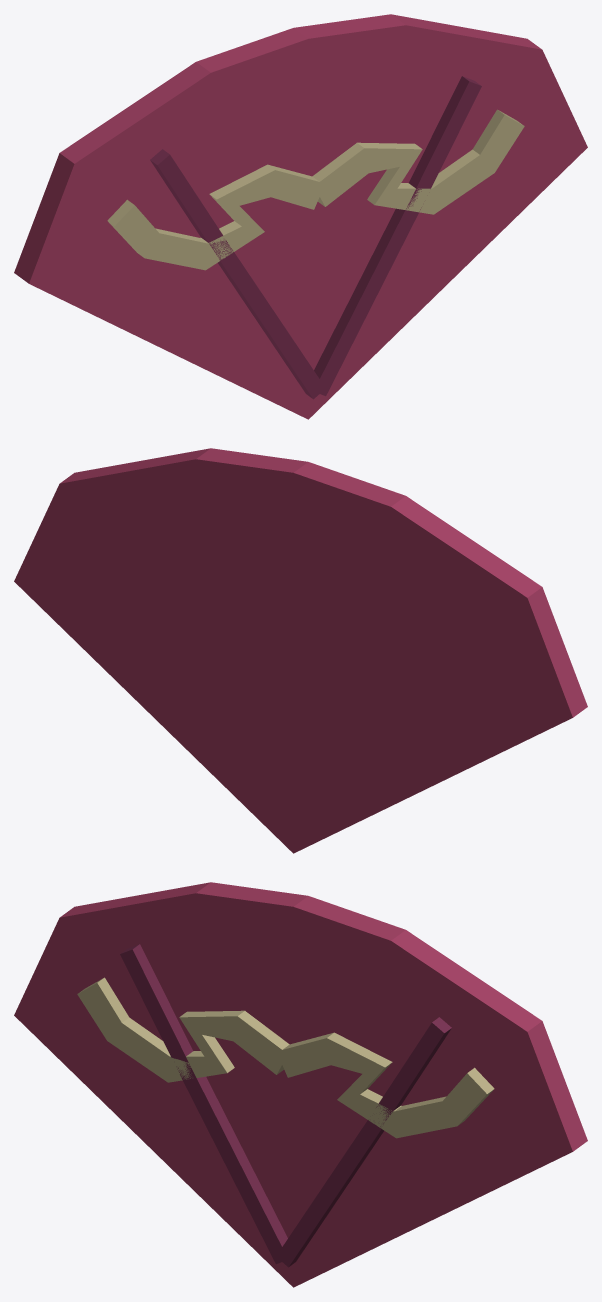
Rendered from cloud_silk_leaf.obj.
The picture shows the model from 3 angles, top to bottom: view 1: azimuth 30°, elevation 25°; view 2: azimuth 150°, elevation 25°; view 3: azimuth 330°, elevation 25°; orthographic projection.
Visible parts, largest first — view 1: cloud_silk, cloud_silk_edge, leaf_cloud_right, leaf_cloud_left, silk_fold_-0.48, silk_fold_0.48, silk_fold_0.48_edge, leaf_cloud_right_edge, leaf_cloud_left_edge, silk_fold_-0.48_edge; view 2: cloud_silk, cloud_silk_edge; view 3: cloud_silk, cloud_silk_edge, leaf_cloud_left, leaf_cloud_right, silk_fold_-0.48, silk_fold_0.48, silk_fold_-0.48_edge, leaf_cloud_left_edge, leaf_cloud_right_edge, silk_fold_0.48_edge.
Boxes of the visible parts, x1,y1,x2,y2 form: cloud_silk: (29,25,587,419); cloud_silk_edge: (14,14,541,283); leaf_cloud_right: (314,115,524,214); leaf_cloud_left: (115,170,320,270); silk_fold_-0.48: (157,155,325,399); silk_fold_0.48: (317,81,481,396); silk_fold_0.48_edge: (314,76,481,378); leaf_cloud_right_edge: (312,109,523,206); leaf_cloud_left_edge: (107,164,318,257); silk_fold_-0.48_edge: (150,149,312,398); cloud_silk: (14,459,572,853); cloud_silk_edge: (60,448,587,717); cloud_silk: (14,893,572,1287); cloud_silk_edge: (60,882,587,1151); leaf_cloud_left: (77,983,287,1082); leaf_cloud_right: (282,1038,486,1138); silk_fold_-0.48: (120,949,286,1264); silk_fold_0.48: (276,1023,444,1267); silk_fold_-0.48_edge: (120,944,287,1246); leaf_cloud_left_edge: (78,977,289,1074); leaf_cloud_right_edge: (283,1032,494,1125); silk_fold_0.48_edge: (289,1017,451,1266).
Bounding box in the file's own units: 1.72 × 1.12 × 0.14.
